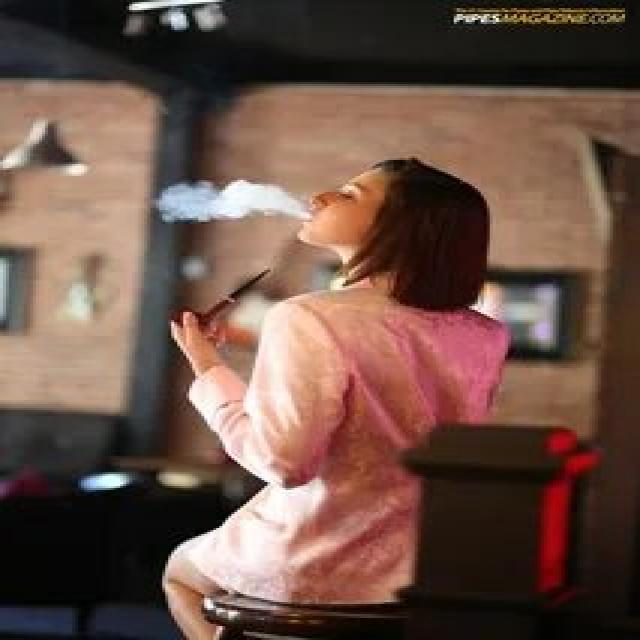smoke: (172, 266, 276, 336)
